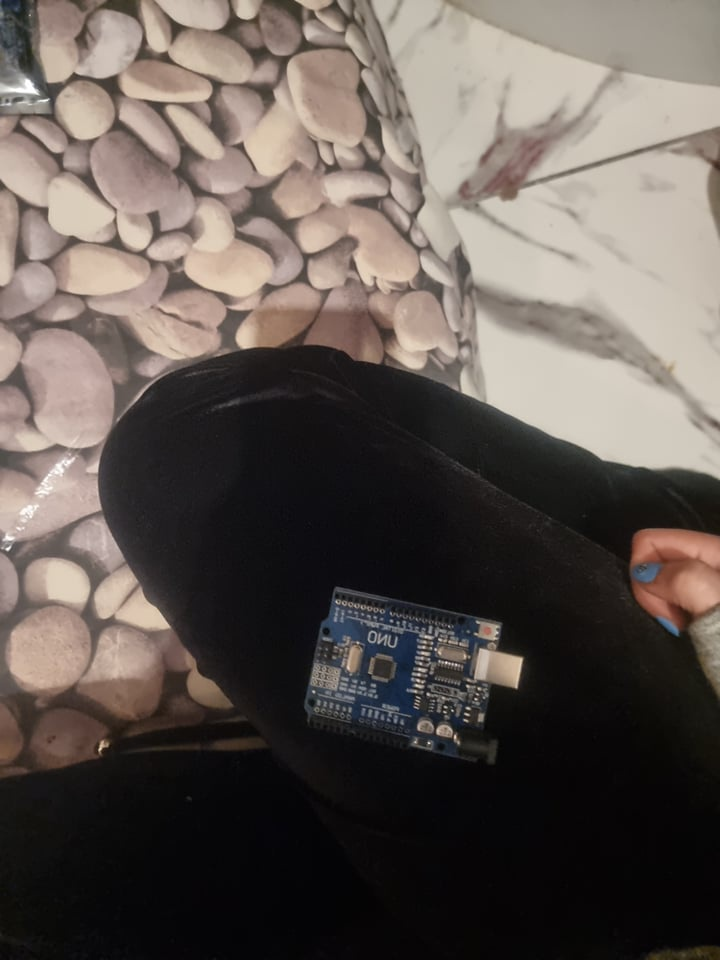5V EXPANSION: (307, 588, 522, 770)
